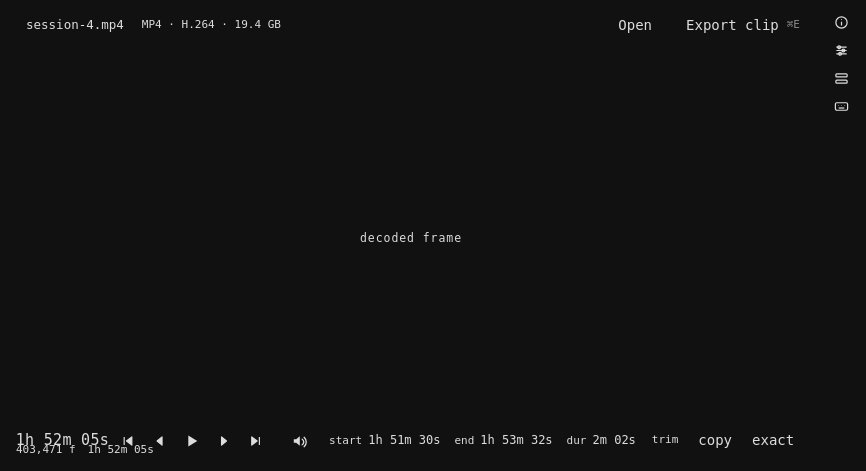
Test case: App › Shift+ArrowUp raises volume, reflected in the popover readout on hover
Press ArrowUp
Hover over the 5th element titled "Mute (M)" at x=300, y=441, box [287,428,313,454]
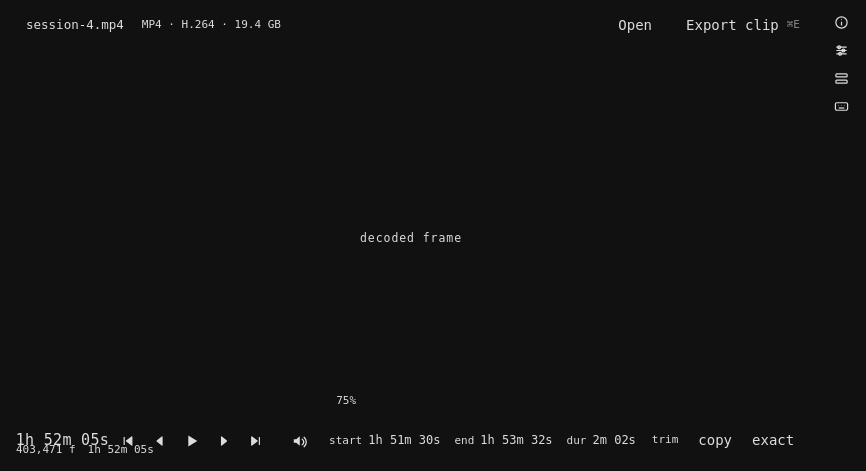
Expected: the text "75%" is shown, [336,393,356,410]
